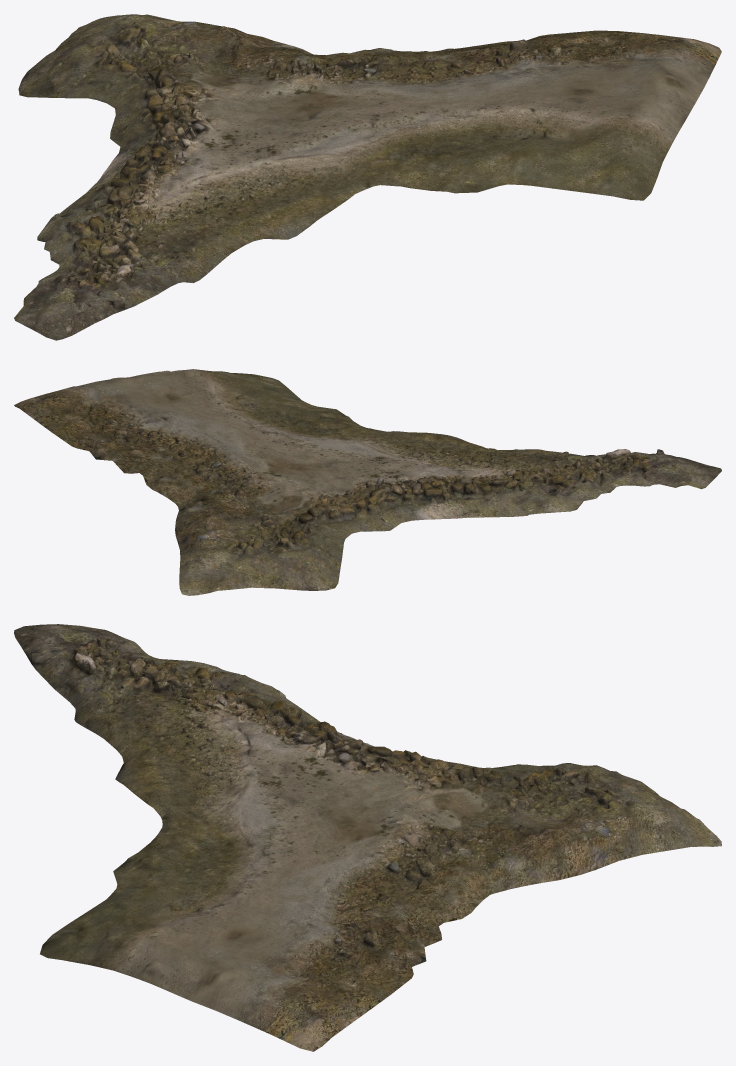
File: coast_rocks_01.glb
3 views of the same model, one above another, from view 1: azimuth 30°, elevation 25°; view 2: azimuth 150°, elevation 25°; view 3: azimuth 270°, elevation 25° (orthographic). The views are drawn at different scales.
Parts seen in each view (by area): view 1: coast_rocks_01; view 2: coast_rocks_01; view 3: coast_rocks_01.
Boxes of the visible parts, left/top/right/bottom form: coast_rocks_01: left=14, top=14, right=721, bottom=340; coast_rocks_01: left=14, top=369, right=721, bottom=595; coast_rocks_01: left=14, top=624, right=721, bottom=1051.
Bounding box in the file's own units: 59.49 × 3.28 × 42.51.
1 material, 1 textured.
